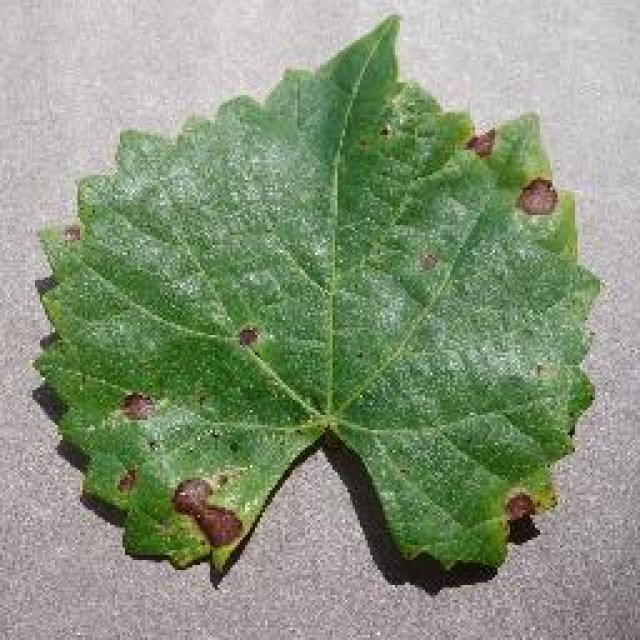Grape___Black_rot: (24, 9, 610, 581)
